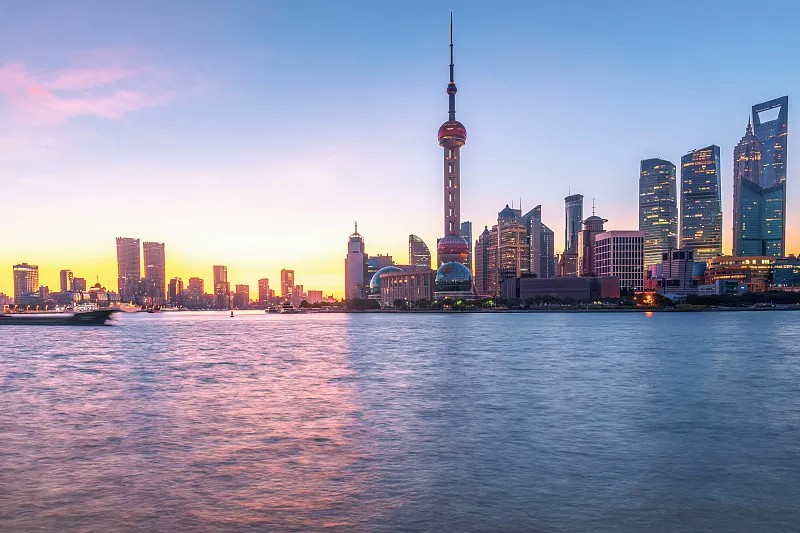Oriental: (438, 14, 469, 264)
